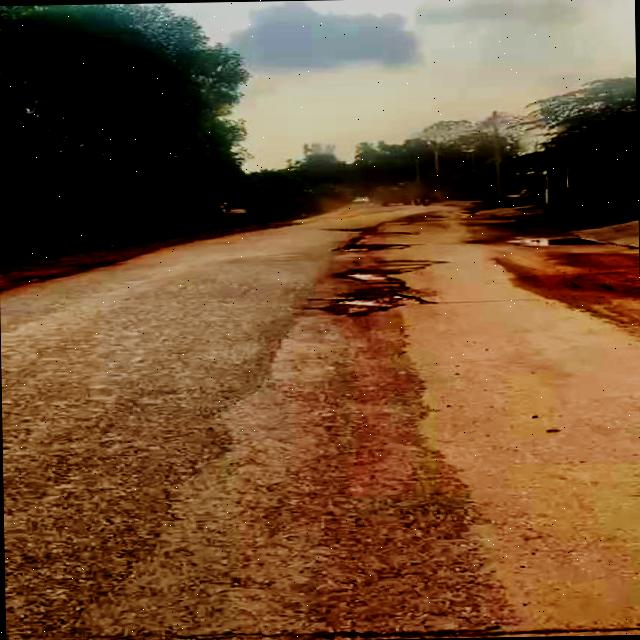pothole: (331, 266, 409, 290), (326, 292, 404, 313)
